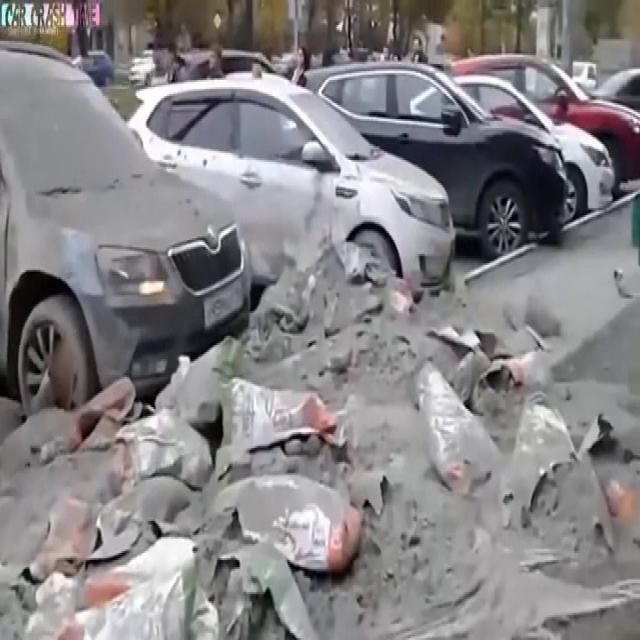accident: (0, 165, 260, 507)
